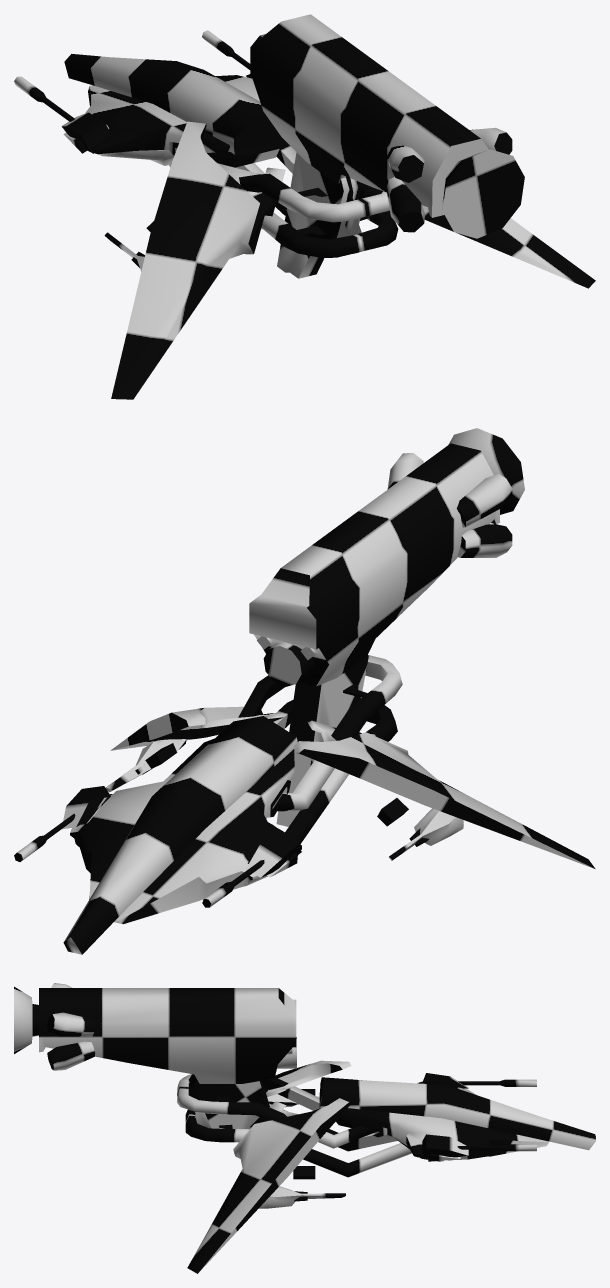
The model's file is spearhead.obj.
The picture shows the model from 3 angles, top to bottom: view 1: azimuth 30°, elevation 25°; view 2: azimuth 150°, elevation 25°; view 3: azimuth 270°, elevation 25°; orthographic projection. The views are drawn at different scales.
Visible parts, largest first — view 1: main; view 2: main; view 3: main.
Part boxes in pixels (bbox=[...]): main: bbox=[14, 14, 595, 399]; main: bbox=[14, 428, 595, 954]; main: bbox=[14, 983, 595, 1273].
Bounding box in the file's own units: 113 × 63.48 × 167.
1 material, 1 textured.
